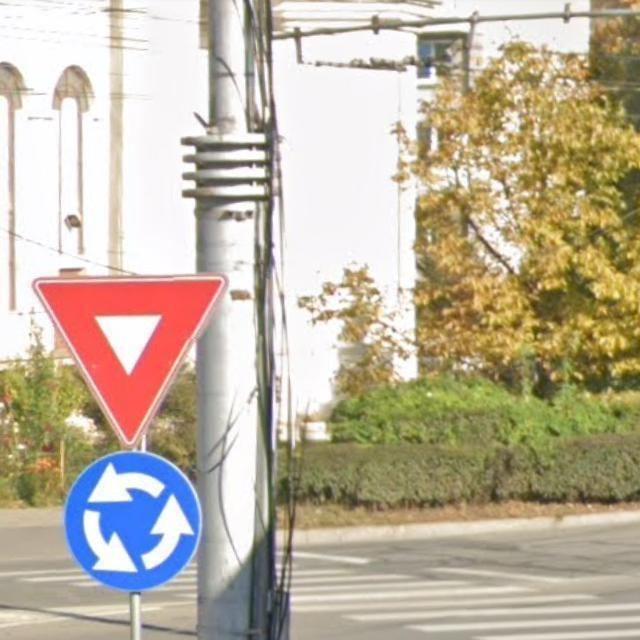prio_give_way: (24, 274, 225, 442)
